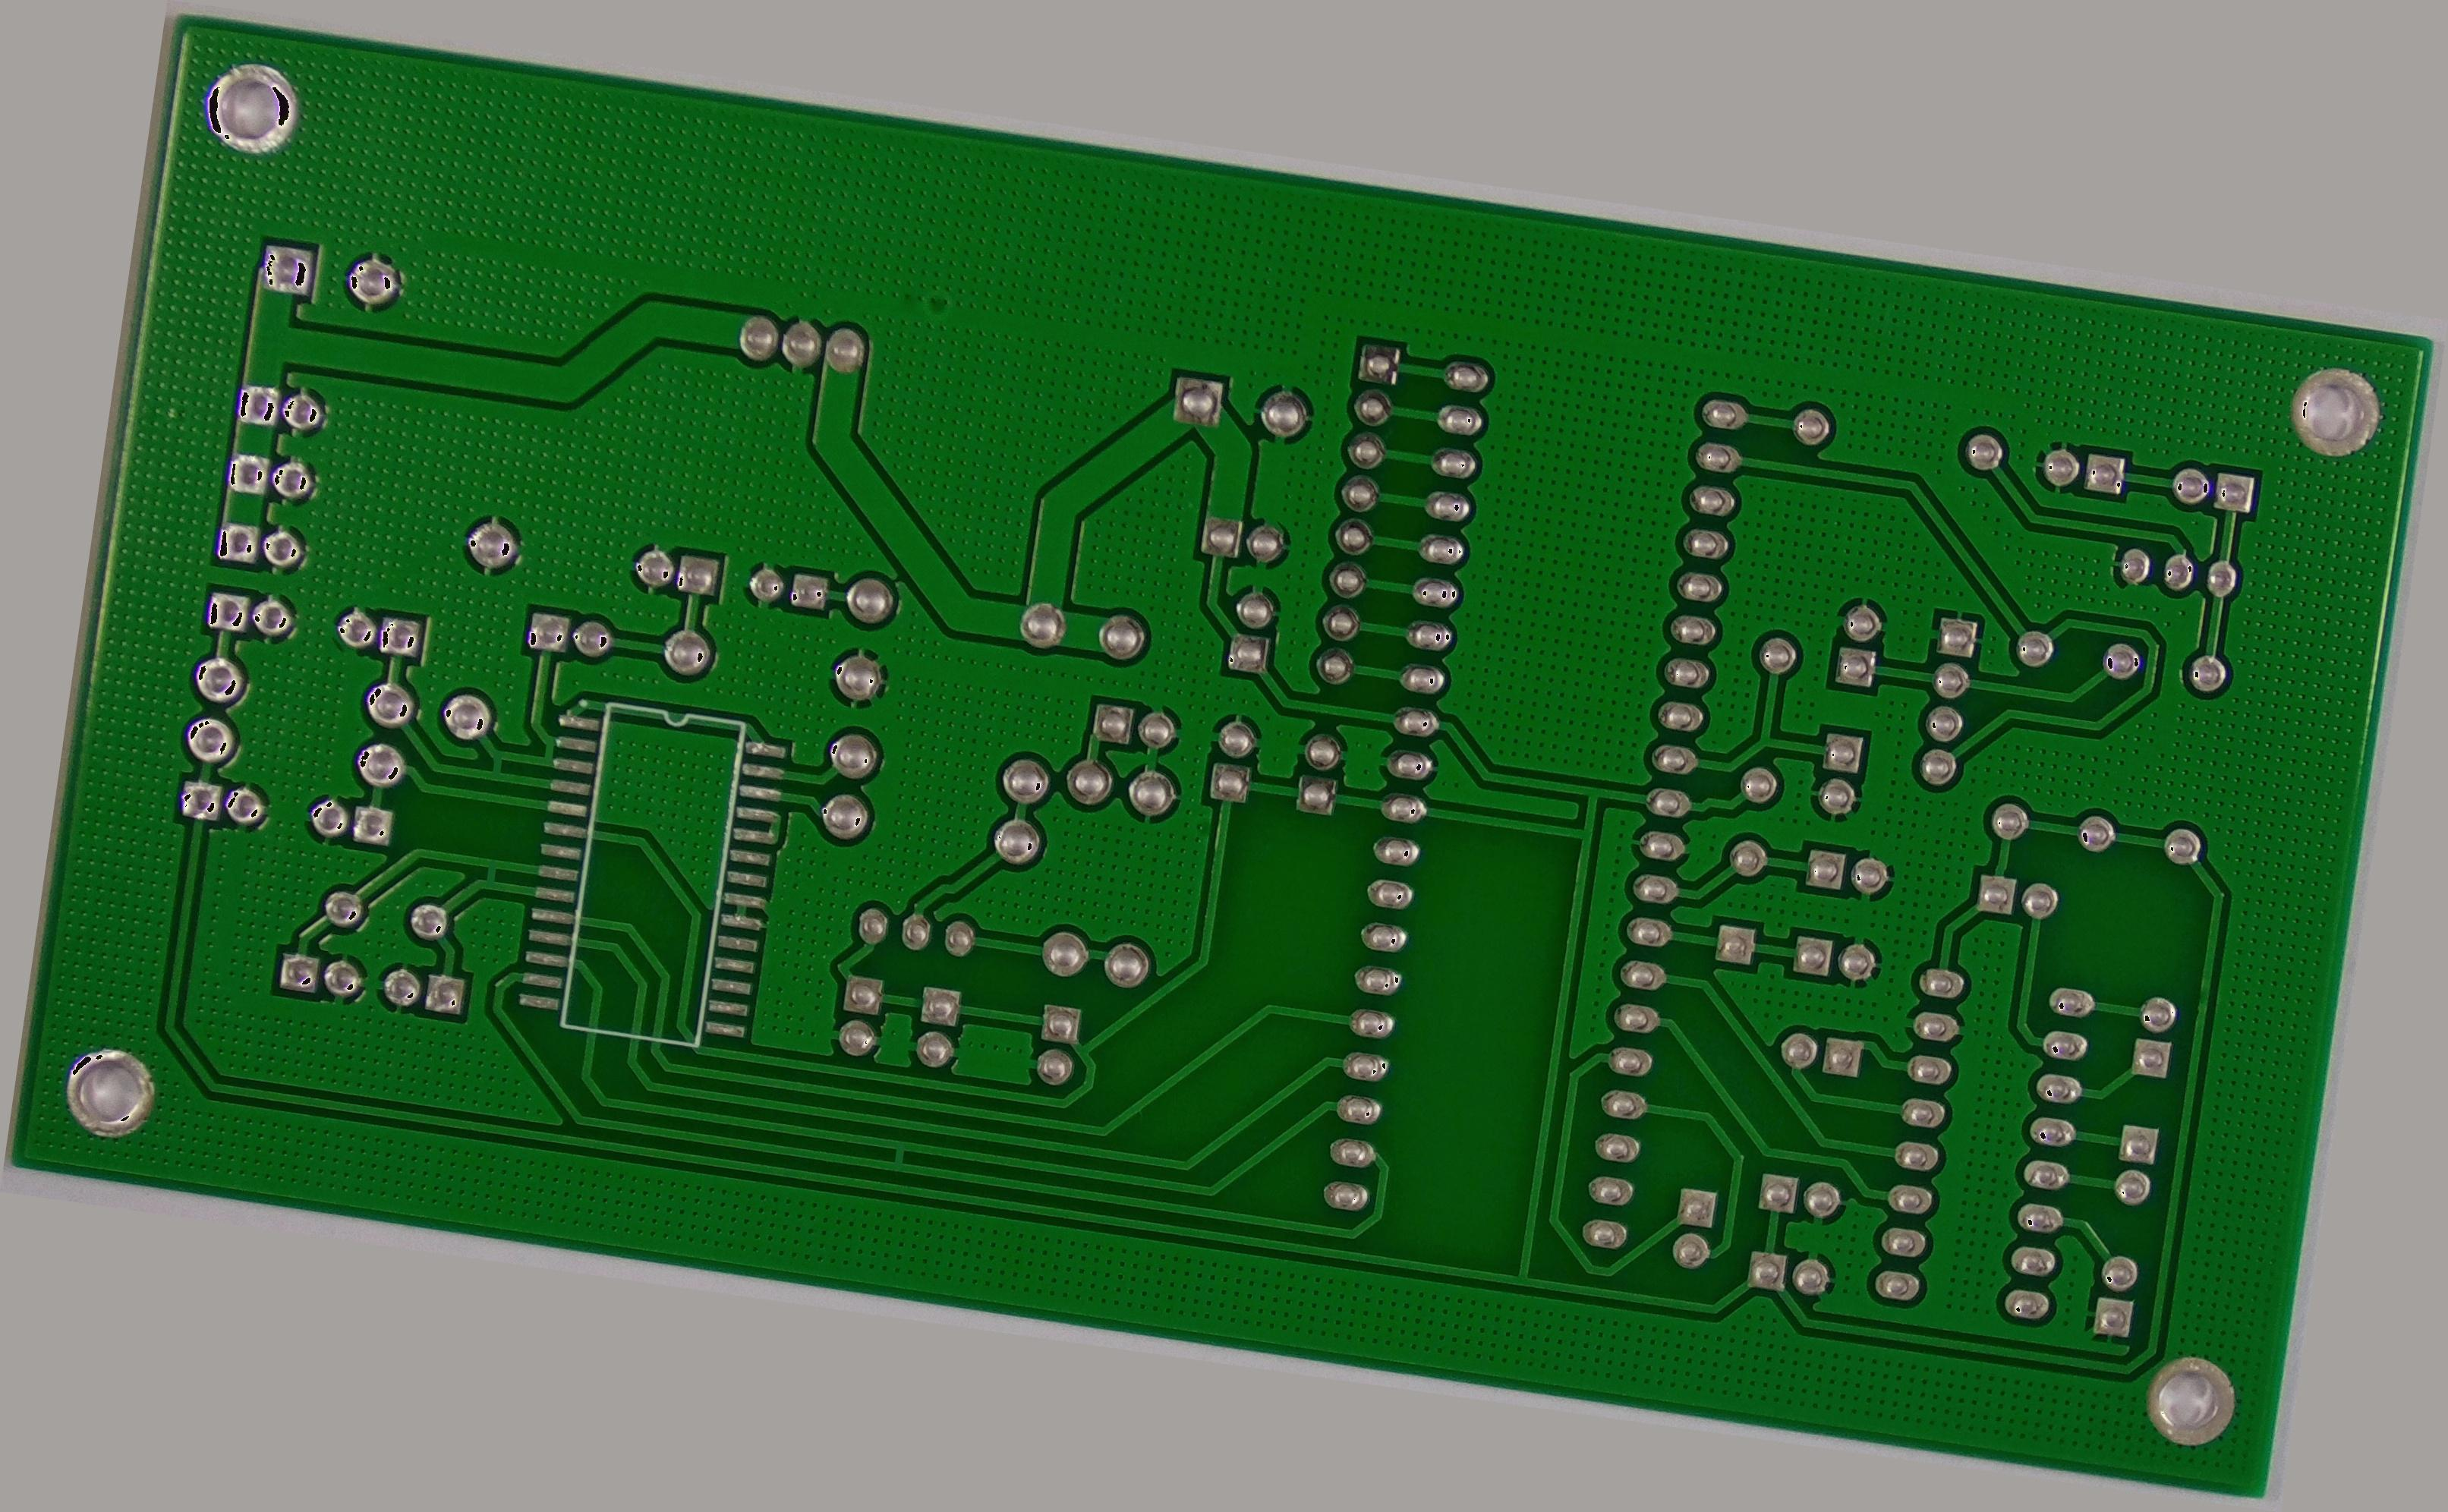short: (472, 734, 519, 788), (873, 1131, 920, 1183), (470, 848, 507, 897), (530, 731, 567, 767)
